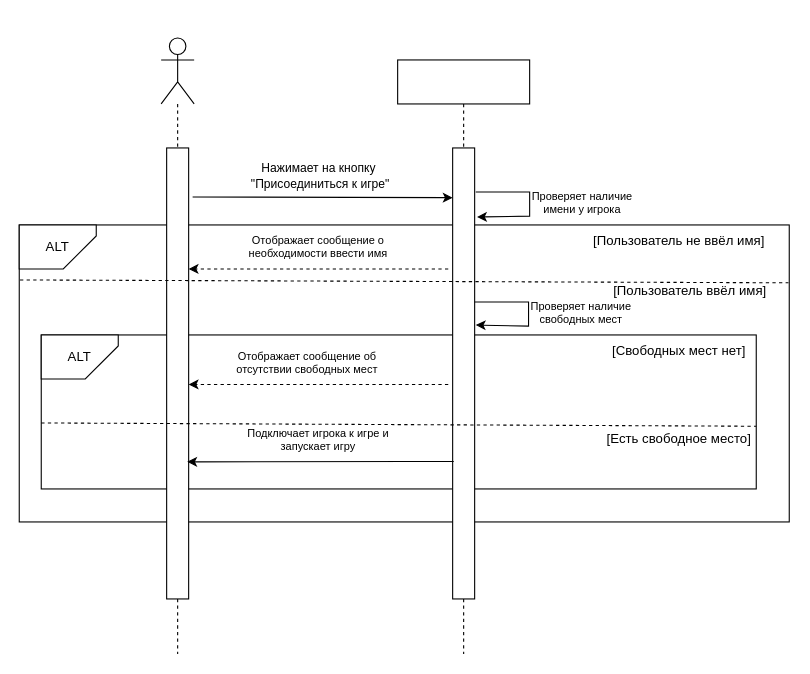
Some shapes in this 810 by 674 pixel diagram are drawn without their labels. Here are the shapes that lost their labels. From the top down, the centre of each, then its label:
At (177,70): "Игрок".
At (463,81): "Система".
